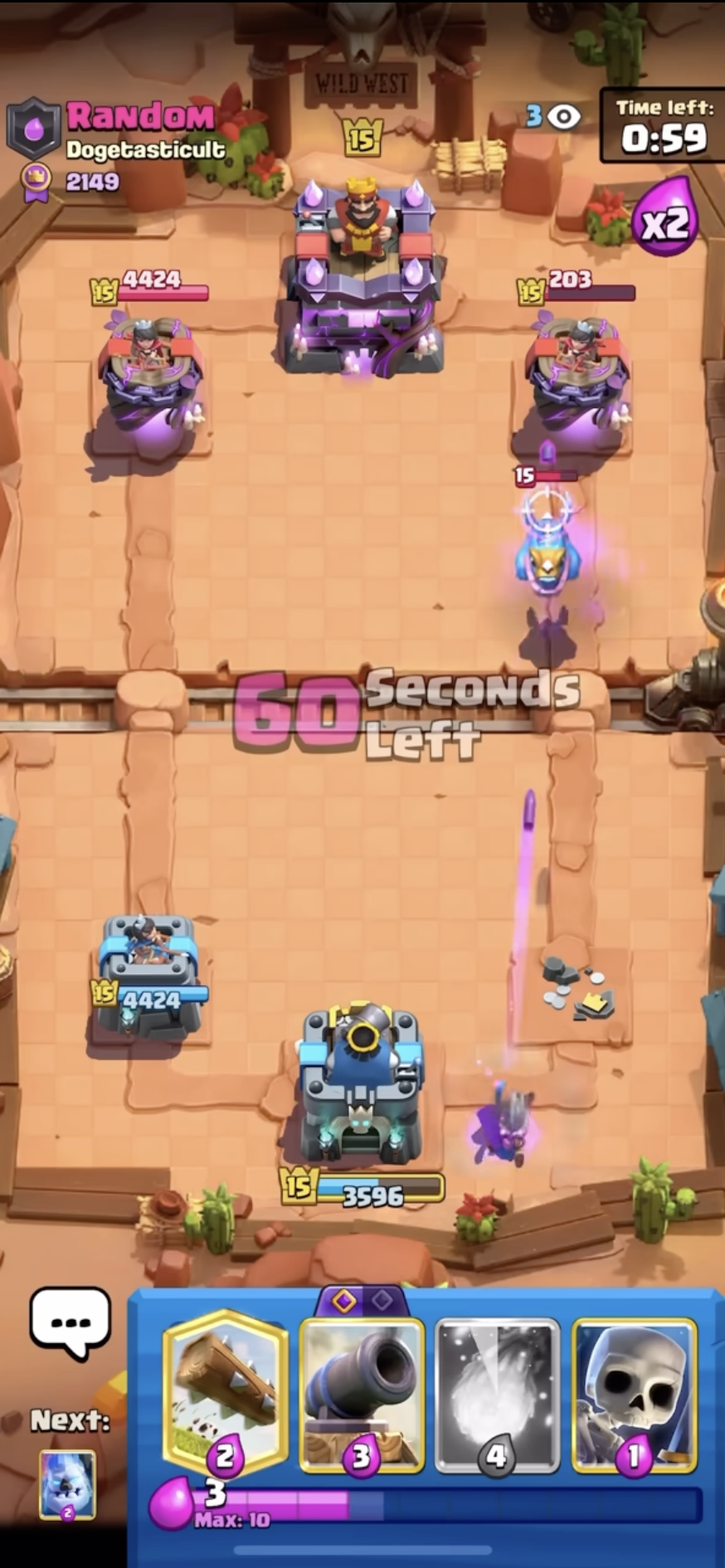evo_musketeer: (481, 1054, 546, 1180)
